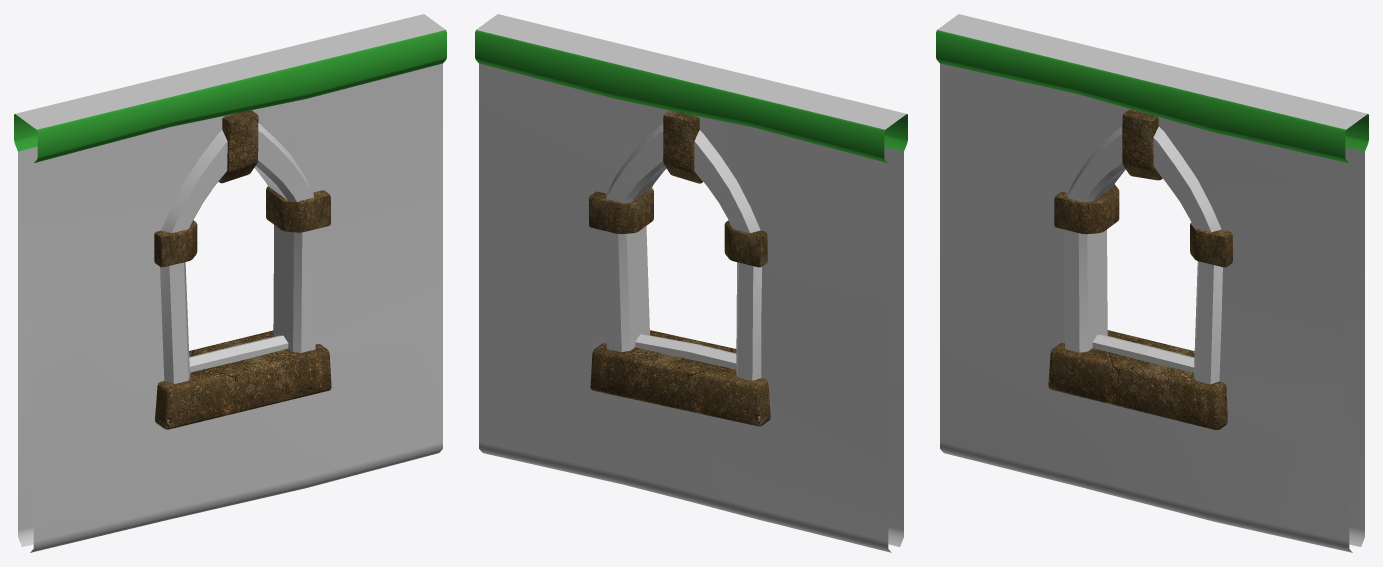
Rendered from DG_WallGothic_Window_A.FBX.
3 renders of one model, left to right at view 1: azimuth 30°, elevation 25°; view 2: azimuth 150°, elevation 25°; view 3: azimuth 330°, elevation 25°, orthographic.
Parts seen in each view (by area): view 1: DG_WallGothic_Window_A; view 2: DG_WallGothic_Window_A; view 3: DG_WallGothic_Window_A.
Part boxes in pixels (<box>): DG_WallGothic_Window_A: <box>14,14,446,552</box>; DG_WallGothic_Window_A: <box>475,14,907,552</box>; DG_WallGothic_Window_A: <box>936,14,1368,552</box>.
Size of the model in its own units: 300 by 300 by 49.19.
